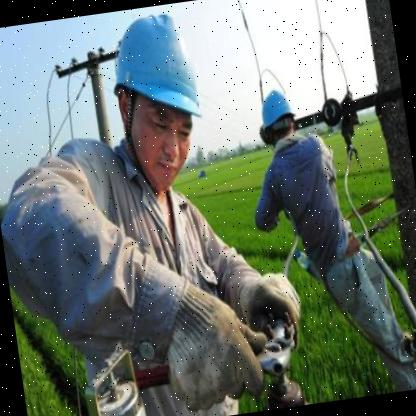capacete: (97, 6, 215, 138), (253, 82, 300, 139)
